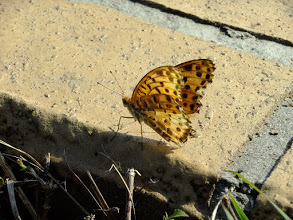Argyreus hyperbius: (92, 56, 217, 148)
butterfly: (94, 58, 219, 150)
